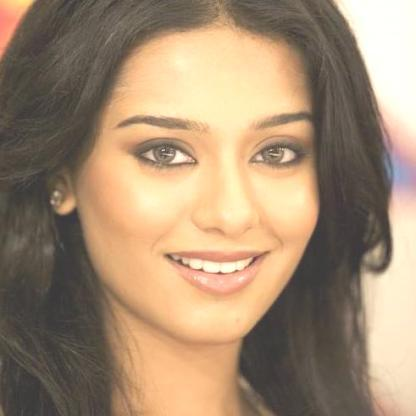without_mask: (97, 85, 311, 329)
